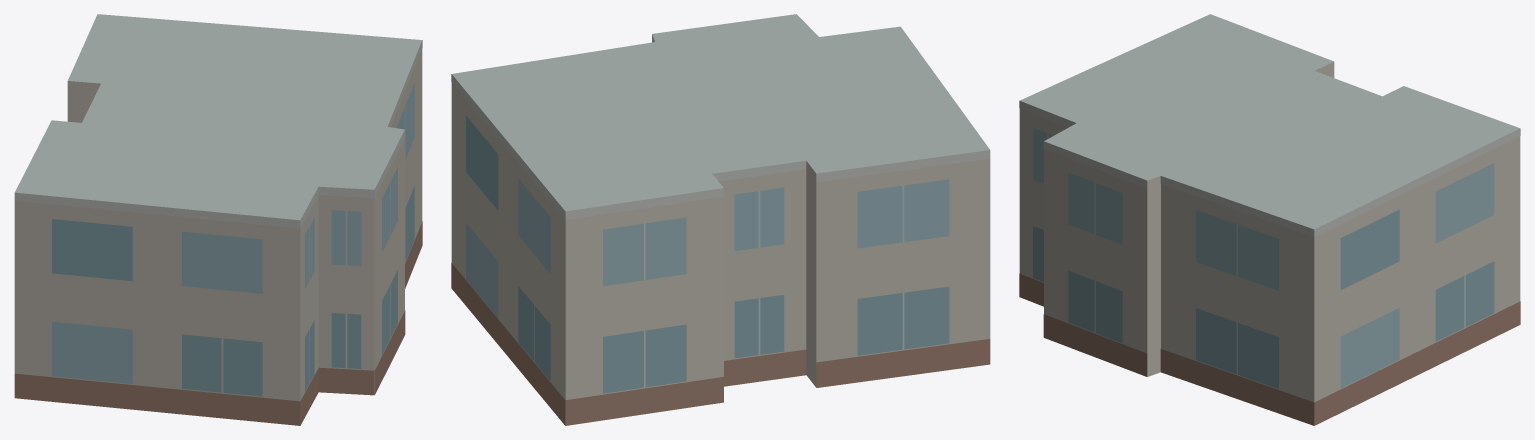
Rendered from survey-upis-32712086.glb.
3 views of the same model, side by side, from view 1: azimuth 30°, elevation 25°; view 2: azimuth 150°, elevation 25°; view 3: azimuth 270°, elevation 25° (orthographic). The views are drawn at different scales.
Parts seen in each view (by area): view 1: survey-upis-32712086.tmp; view 2: survey-upis-32712086.tmp; view 3: survey-upis-32712086.tmp.
Boxes of the visible parts, x1=… form: survey-upis-32712086.tmp: x1=14, y1=14, x2=422, y2=425; survey-upis-32712086.tmp: x1=451, y1=14, x2=990, y2=425; survey-upis-32712086.tmp: x1=1019, y1=14, x2=1520, y2=425.
Bounding box in the file's own units: 14.36 × 6.1 × 14.1.
